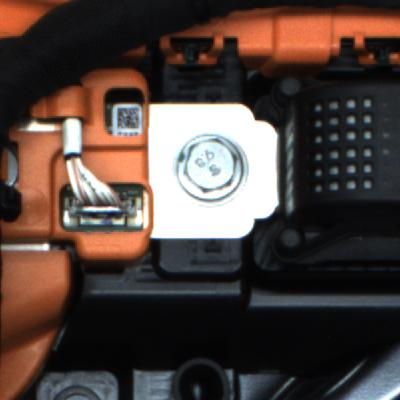nut_b: (177, 130, 252, 214)
